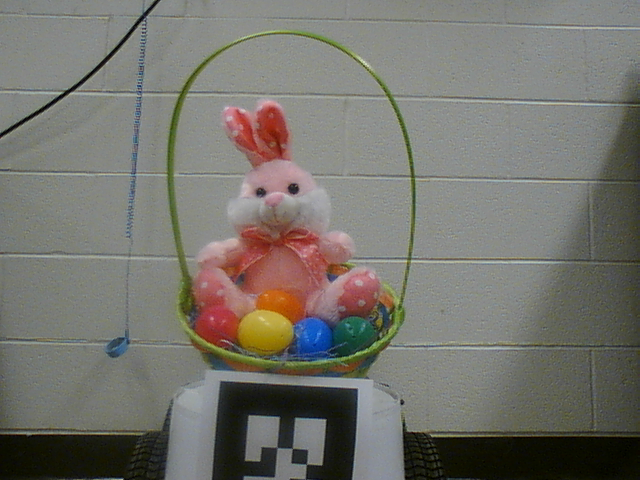bunny: (169, 31, 421, 392)
